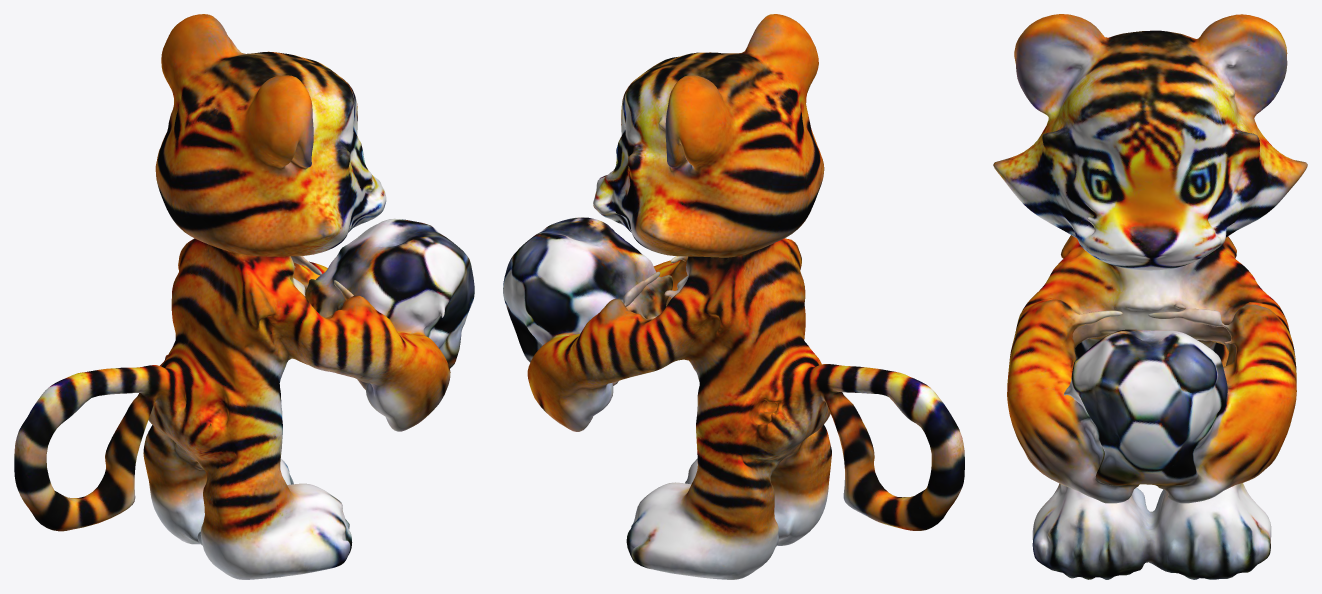
The model's file is Cub with soccer ball.glb.
The picture shows the model from 3 angles, left to right: view 1: azimuth 30°, elevation 25°; view 2: azimuth 150°, elevation 25°; view 3: azimuth 270°, elevation 25°; orthographic projection. The views are drawn at different scales.
Parts seen in each view (by area): view 1: high_poly; view 2: high_poly; view 3: high_poly.
Part boxes in pixels (x1,y1,x2,y2): high_poly: (14,14,474,579); high_poly: (503,14,964,579); high_poly: (993,14,1307,579).
Size of the model in its own units: 0.9296 by 1 by 0.5271.
Materials: 1 (1 with a texture image).
